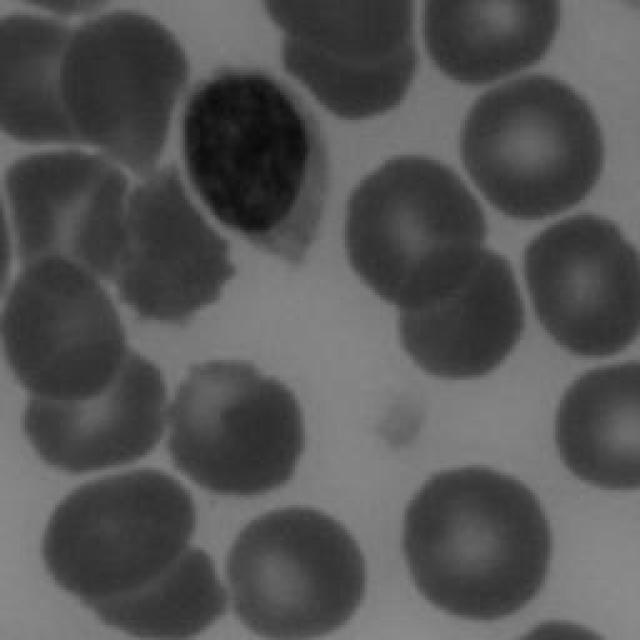RBC: (398, 466, 550, 622), (345, 151, 490, 309), (462, 72, 606, 220), (66, 15, 189, 175), (120, 168, 240, 328), (169, 359, 306, 496), (226, 509, 369, 639), (44, 470, 194, 592), (2, 262, 128, 398), (10, 154, 135, 291), (24, 352, 166, 472), (522, 214, 640, 356), (400, 252, 525, 380), (286, 24, 416, 121), (70, 556, 220, 639), (555, 356, 640, 494), (422, 0, 560, 85), (261, 0, 419, 68), (4, 16, 86, 146)
WBC: (175, 70, 333, 270)
